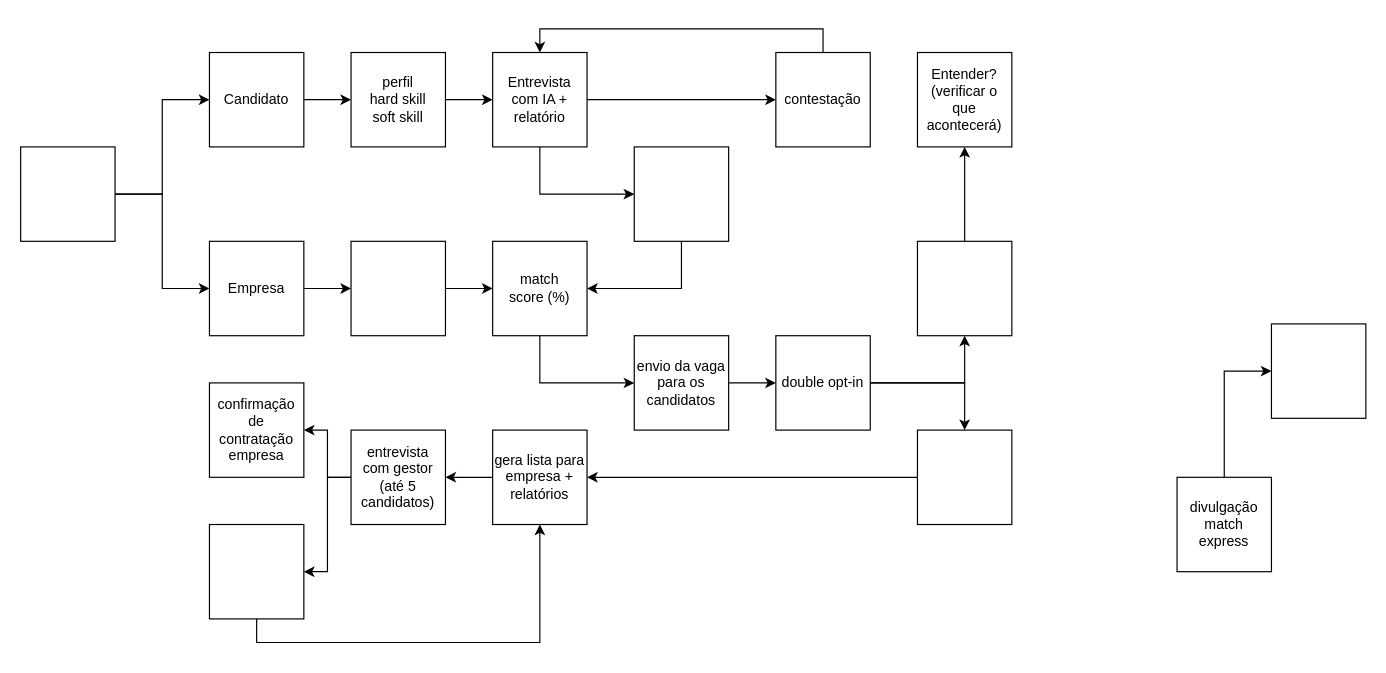
The diagram is 1386 pixels wide and 673 high, and some of its shapes have lost their labels. The shapes that lost their labels are listed below. From the top down, each one's box as (x1, y1, x2, y2) in pixels, then its label:
(19, 146, 115, 241): Login
(633, 146, 729, 241): banco de dados
(350, 240, 445, 336): perfil vaga requisitos: hard skill soft skill
(916, 240, 1012, 336): Recusa
(1270, 323, 1366, 418): vaga urgente
(916, 429, 1012, 525): Aceite
(208, 523, 304, 619): não ouve contratação
